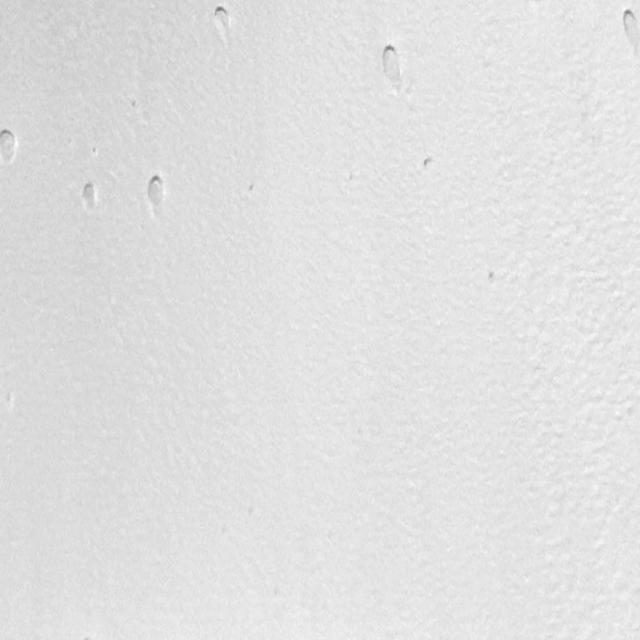pin holes: (376, 40, 408, 92), (617, 8, 639, 52), (146, 173, 170, 212), (210, 1, 237, 34), (1, 127, 22, 164), (79, 181, 101, 213), (419, 153, 442, 174), (488, 265, 497, 290), (245, 182, 259, 198), (91, 144, 99, 160)
